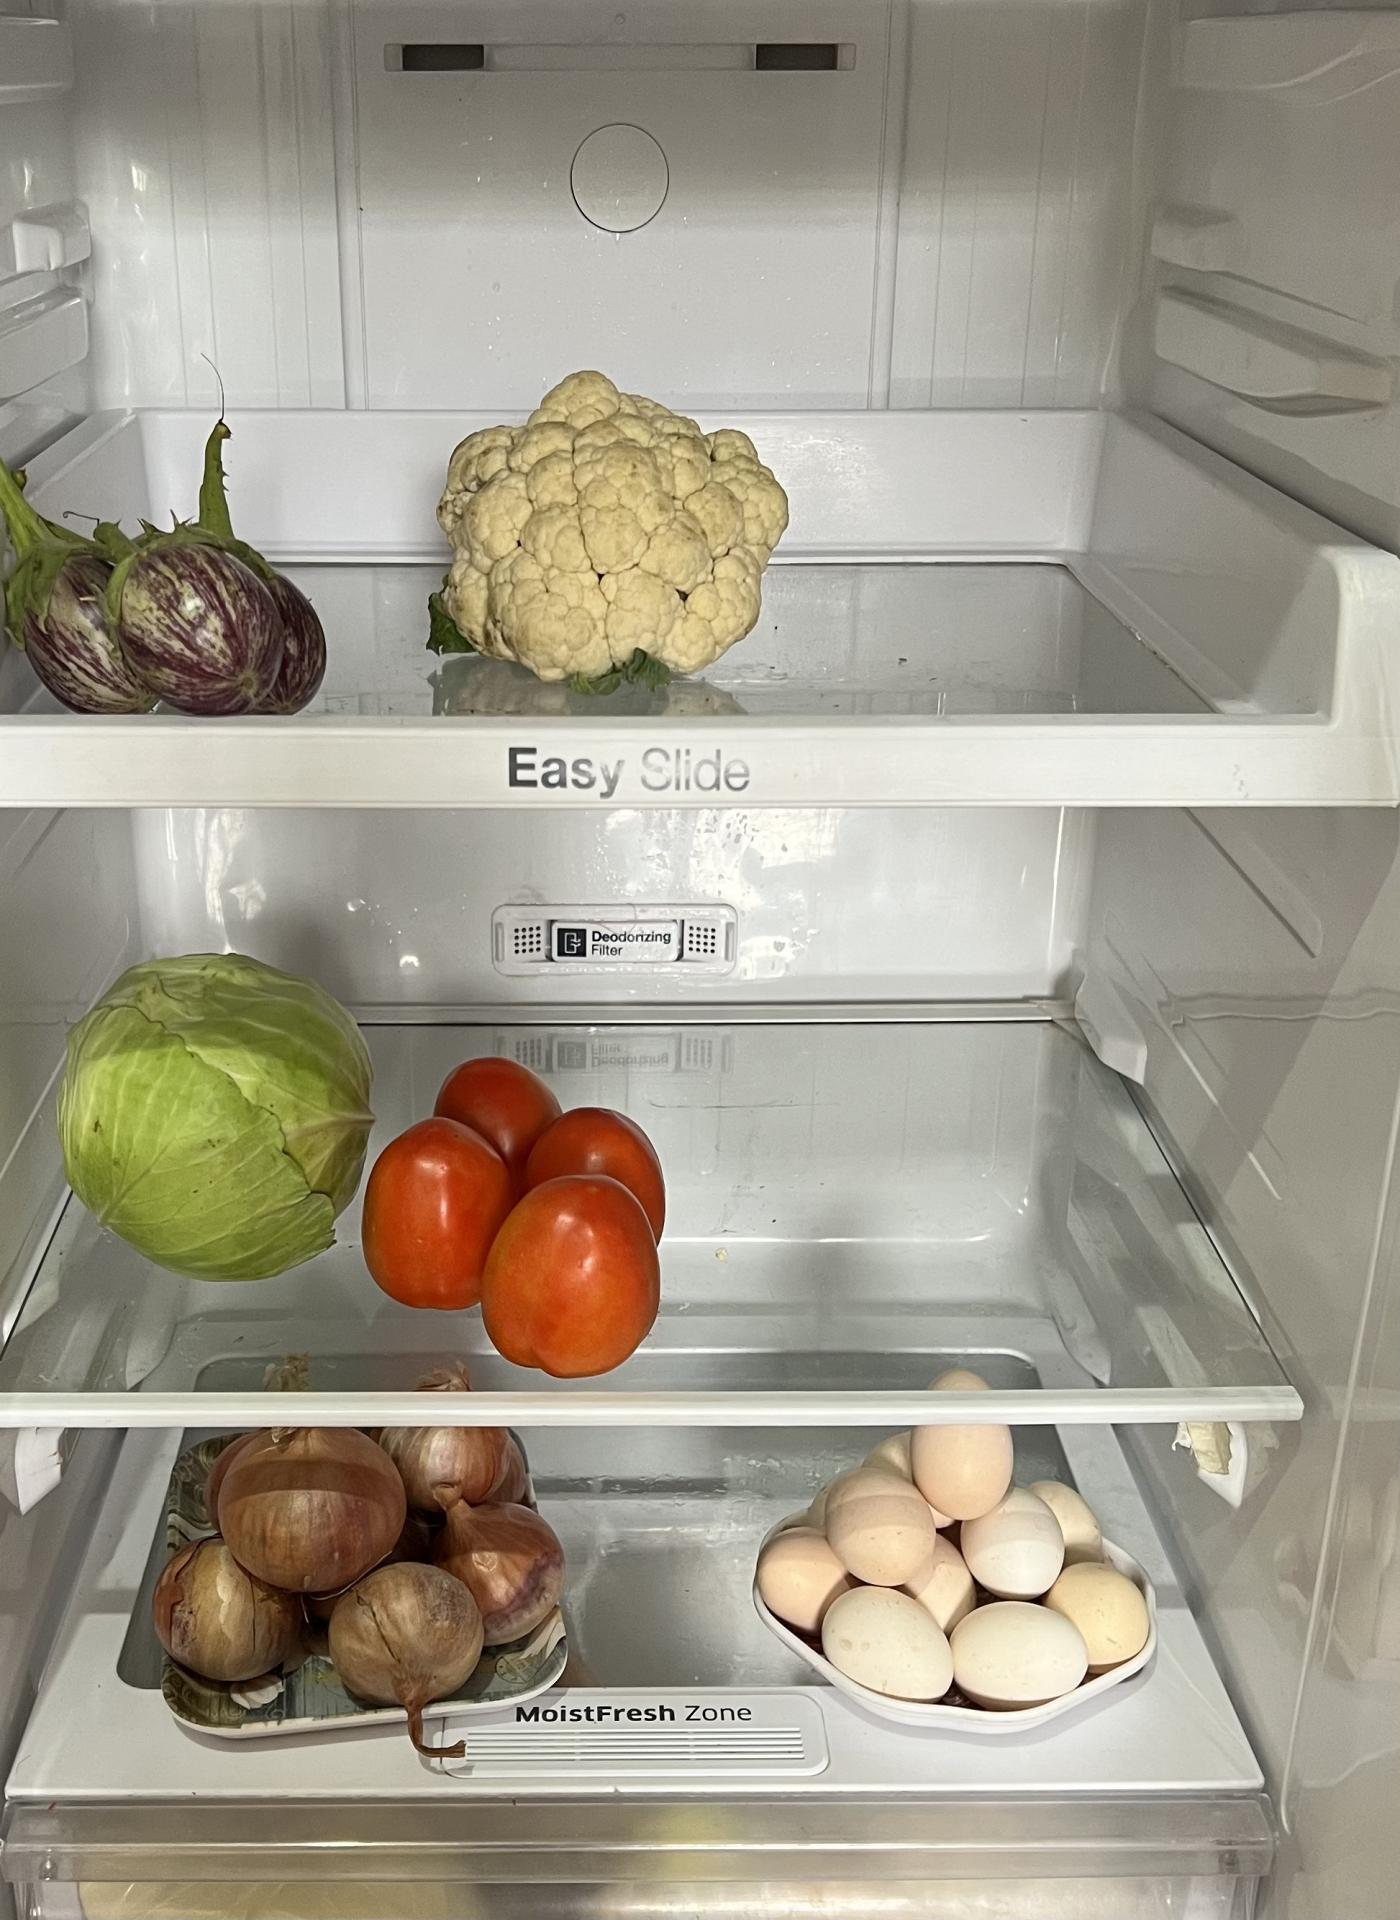cabbage: (70, 954, 364, 1272)
cauliflower: (437, 382, 775, 675)
egg: (756, 1425, 1151, 1702)
onion: (148, 1422, 568, 1707)
tomato: (365, 1052, 665, 1379)
